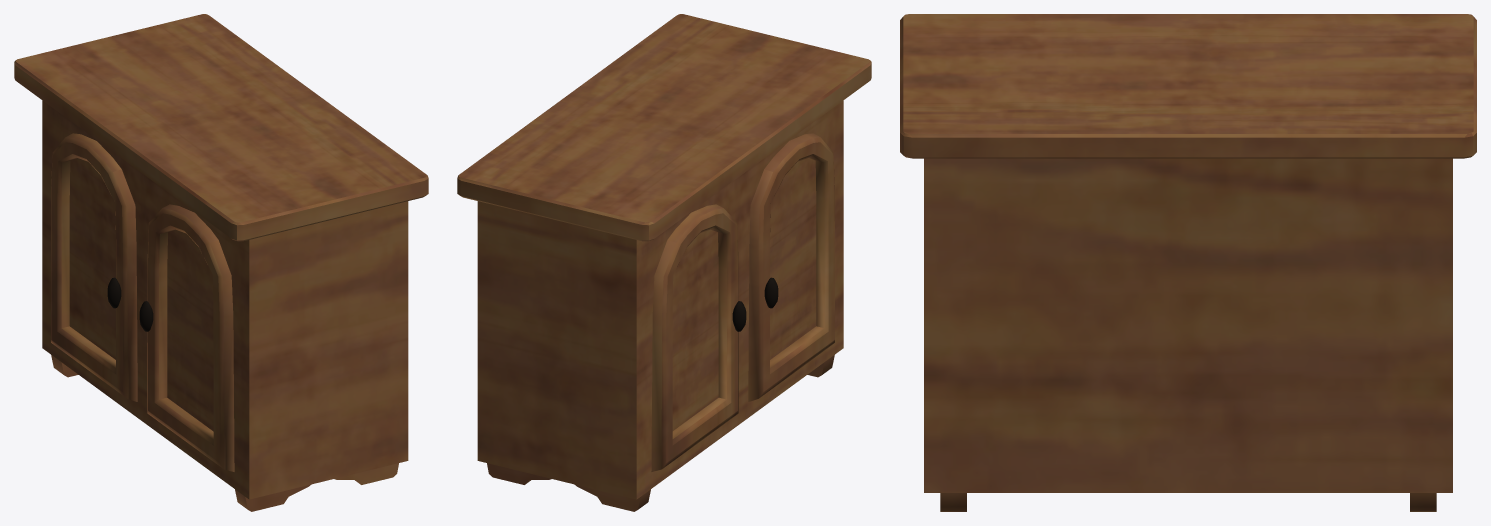
File: CI_079_cupboard_var1.glb
The picture shows the model from 3 angles, left to right: view 1: azimuth 30°, elevation 25°; view 2: azimuth 150°, elevation 25°; view 3: azimuth 270°, elevation 25°; orthographic projection. The views are drawn at different scales.
Visible parts, largest first — view 1: cupboard, knob; view 2: cupboard, knob; view 3: cupboard.
Boxes of the visible parts, x1,y1,x2,y2 form: cupboard: (14, 14, 428, 511); knob: (107, 277, 153, 331); cupboard: (457, 14, 871, 511); knob: (732, 277, 778, 331); cupboard: (900, 14, 1476, 511).
Bounding box in the file's own units: 0.7553 × 1.12 × 1.5.
2 materials, 1 textured.
